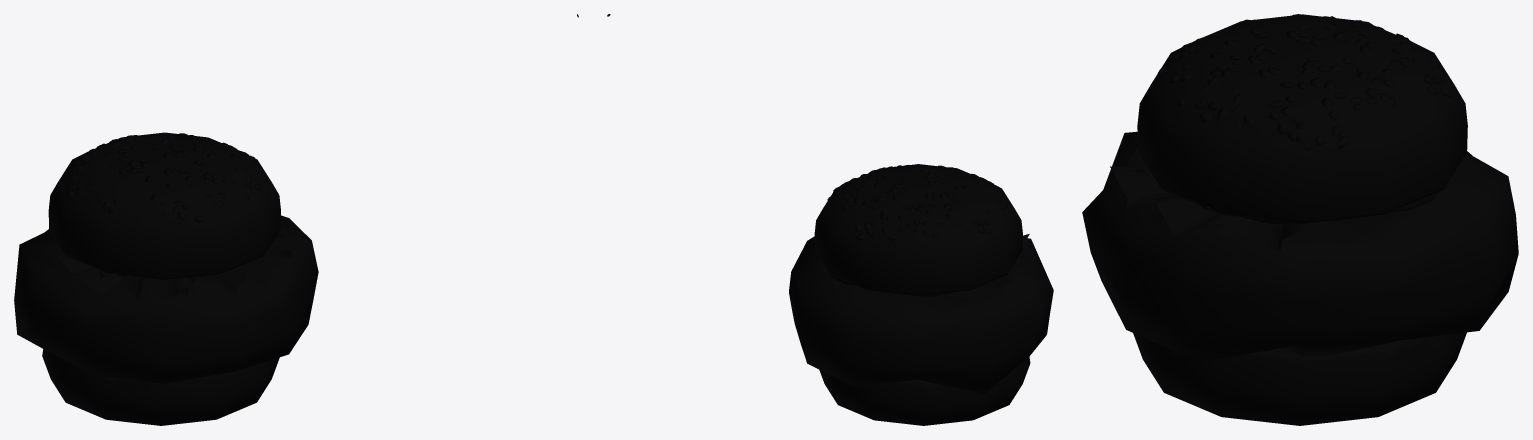
Rendered from hamburger-with-textures.glb.
3 views of the same model, side by side, from view 1: azimuth 30°, elevation 25°; view 2: azimuth 150°, elevation 25°; view 3: azimuth 270°, elevation 25° (orthographic). The views are drawn at different scales.
Parts seen in each view (by area): view 1: meat, top, buttom, veg.002, veg, veg.001; view 2: meat, top, buttom, veg.002, chesse; view 3: meat, top, buttom, veg, chesse.
Part boxes in pixels (x1=…): meat: x1=14, y1=215, x2=318, y2=383; top: x1=48, y1=132, x2=280, y2=279; buttom: x1=42, y1=349, x2=279, y2=425; veg.002: x1=66, y1=267, x2=247, y2=302; veg: x1=213, y1=222, x2=295, y2=289; veg.001: x1=54, y1=255, x2=201, y2=295; meat: x1=789, y1=236, x2=1053, y2=393; top: x1=814, y1=164, x2=1022, y2=296; buttom: x1=819, y1=357, x2=1030, y2=425; veg.002: x1=1009, y1=234, x2=1039, y2=276; chesse: x1=914, y1=379, x2=965, y2=399; meat: x1=1082, y1=131, x2=1518, y2=362; top: x1=1137, y1=14, x2=1467, y2=223; buttom: x1=1133, y1=332, x2=1466, y2=425; veg: x1=1110, y1=166, x2=1302, y2=253; chesse: x1=1169, y1=336, x2=1438, y2=367.
Bounding box in the file's own units: 5.17 × 2.85 × 2.65.
7 materials, 7 textured.
